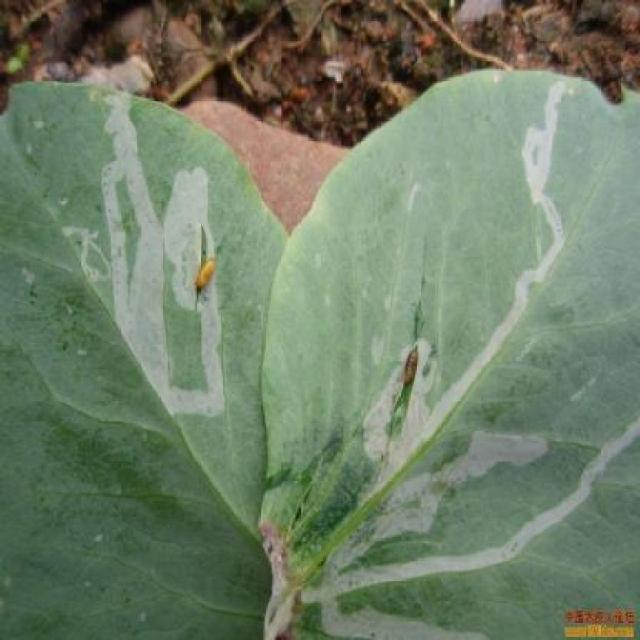whorl-maggot: (188, 237, 234, 312), (395, 333, 427, 398)
